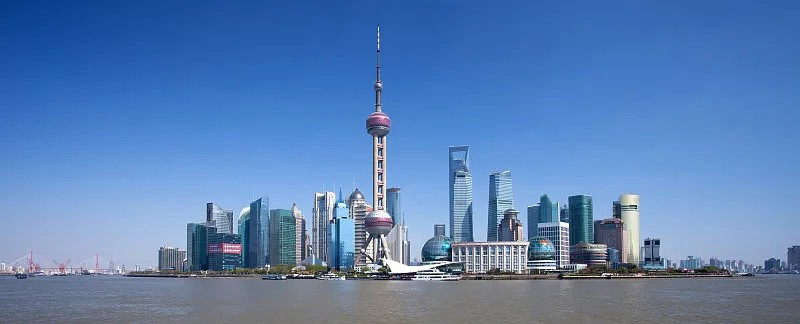Oriental: (355, 26, 392, 264)
